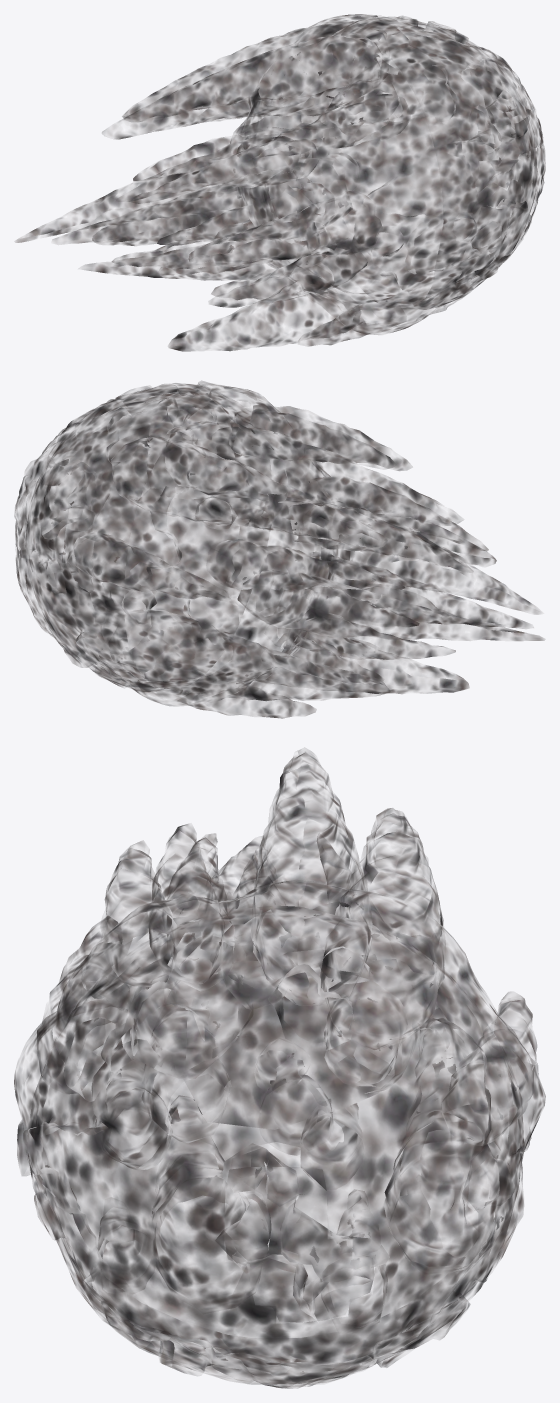
The model's file is Proxy_CO.glb.
3 renders of one model, top to bottom at view 1: azimuth 30°, elevation 25°; view 2: azimuth 150°, elevation 25°; view 3: azimuth 270°, elevation 25°, orthographic. The views are drawn at different scales.
Visible parts, largest first — view 1: Proxy_CO_Surface_NotIce_Baked, Proxy_CO_Melting_Ice_General; view 2: Proxy_CO_Surface_NotIce_Baked, Proxy_CO_Melting_Ice_General; view 3: Proxy_CO_Surface_NotIce_Baked, Proxy_CO_Melting_Ice_General.
Boxes of the visible parts, x1,y1,x2,y2 form: Proxy_CO_Surface_NotIce_Baked: (15, 14, 545, 351); Proxy_CO_Melting_Ice_General: (305, 17, 537, 309); Proxy_CO_Surface_NotIce_Baked: (14, 380, 544, 718); Proxy_CO_Melting_Ice_General: (25, 383, 271, 691); Proxy_CO_Surface_NotIce_Baked: (14, 748, 545, 1388); Proxy_CO_Melting_Ice_General: (27, 906, 523, 1384).
Bounding box in the file's own units: 304 × 163 × 166.
1 material, 1 textured.
